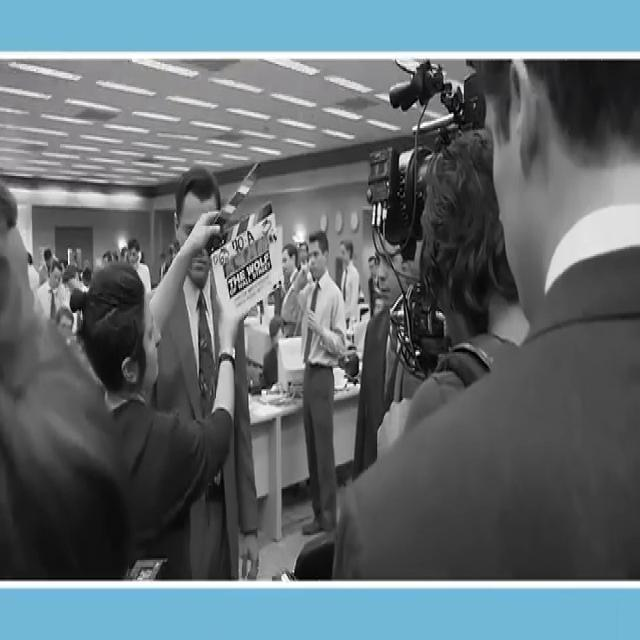Clapperboard: (203, 161, 287, 327)
